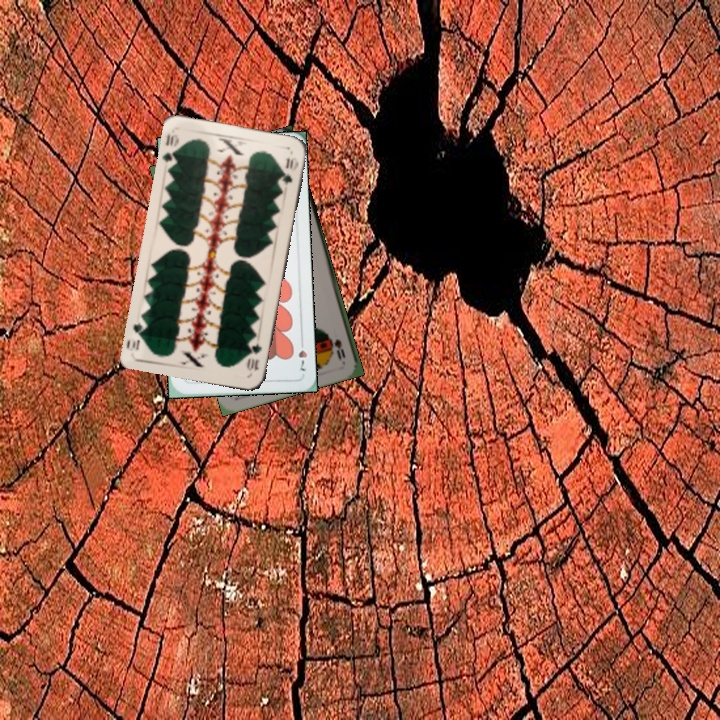G10: (159, 130, 182, 169), (243, 338, 265, 374)
H7: (294, 335, 310, 374)
SO: (330, 335, 348, 362)
